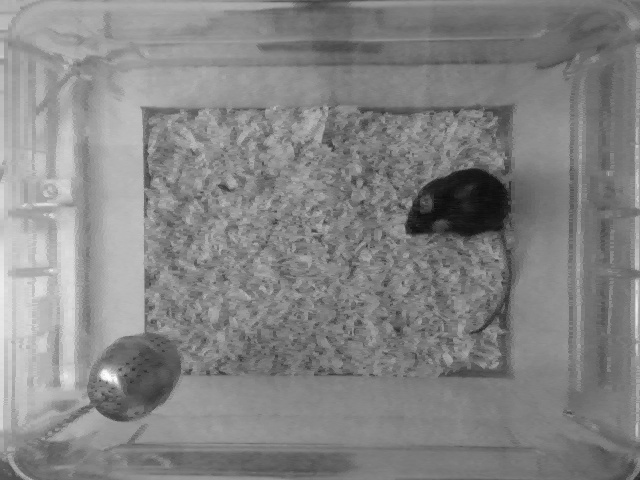mice: (402, 161, 515, 339)
